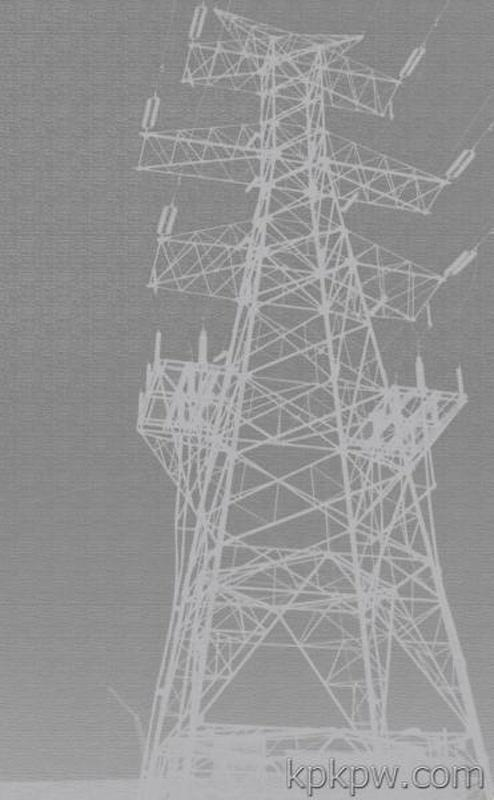power_tower: (119, 10, 484, 737)
